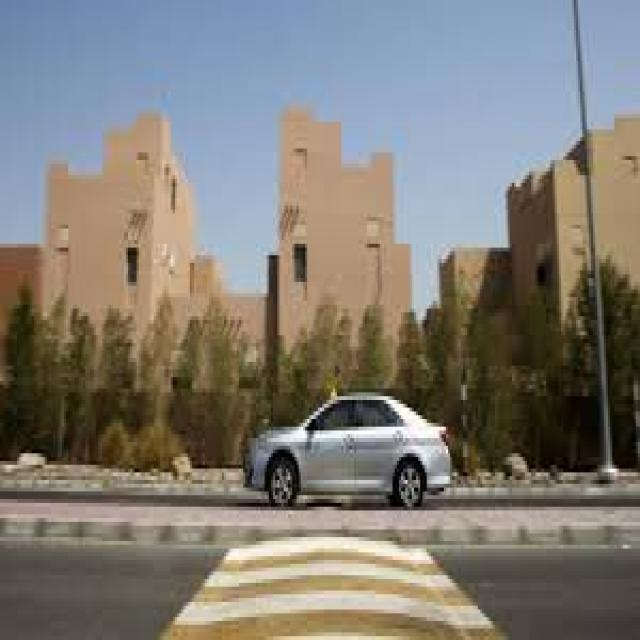speedbreaker: (211, 539, 463, 640)
